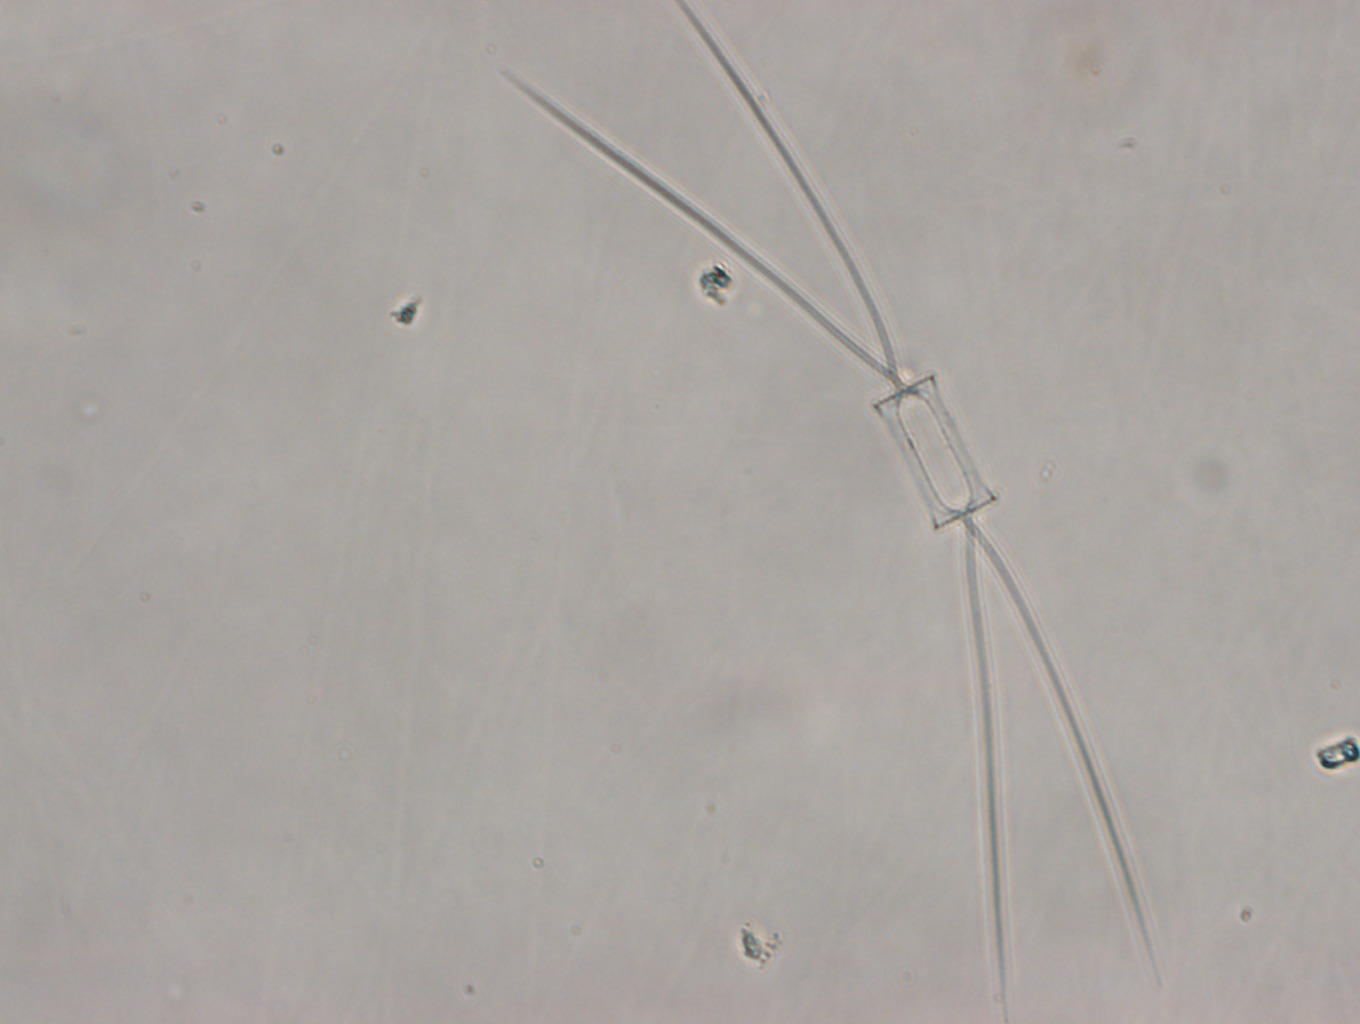chaetoceros: (496, 1, 1163, 1024)
